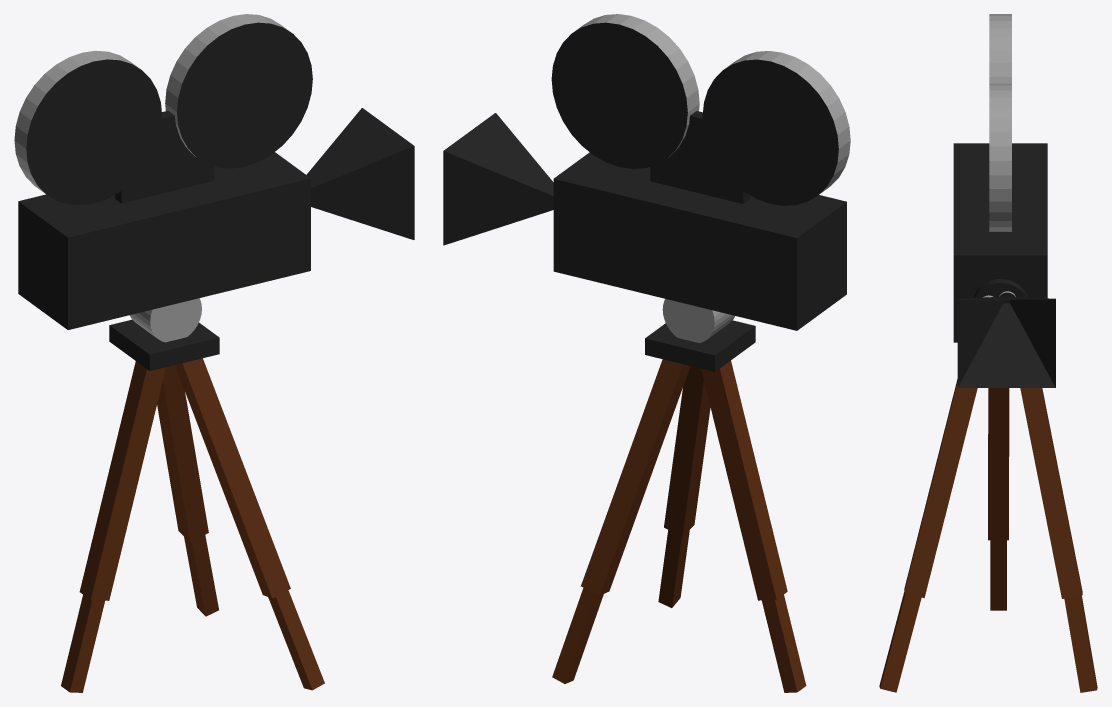
Rendered from (Multi)Camera2WIP.fbx.
3 views of the same model, side by side, from view 1: azimuth 30°, elevation 25°; view 2: azimuth 150°, elevation 25°; view 3: azimuth 270°, elevation 25° (orthographic). The views are drawn at different scales.
Parts seen in each view (by area): view 1: StandingCamera; view 2: StandingCamera; view 3: StandingCamera.
Part boxes in pixels (box(x1,y1,x2,y2)): StandingCamera: box(14, 14, 414, 692); StandingCamera: box(443, 14, 850, 692); StandingCamera: box(879, 14, 1097, 692).
Bounding box in the file's own units: 149 × 241 × 80.18.
